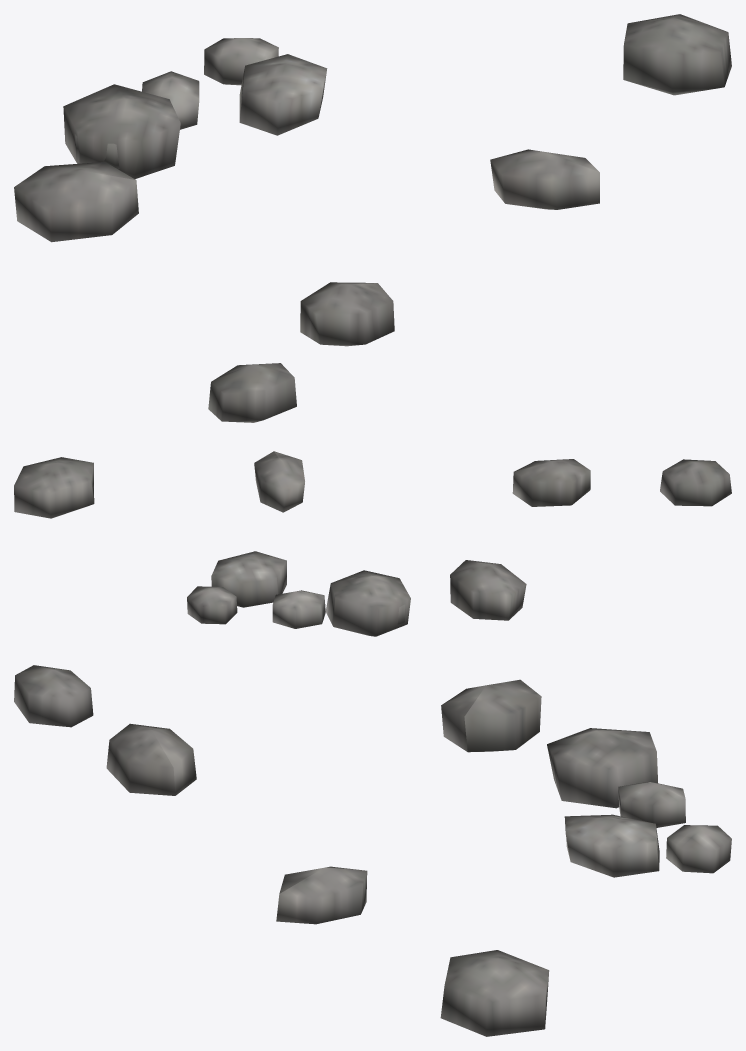
Rendered from pebbles_03.glb.
3 renders of one model, top to bottom at view 1: azimuth 30°, elevation 25°; view 2: azimuth 150°, elevation 25°; view 3: azimuth 270°, elevation 25°, orthographic. The views are drawn at different scales.
Parts seen in each view (by area): view 1: pebbles_03; view 2: pebbles_03; view 3: pebbles_03.
Boxes of the visible parts, x1,y1,x2,y2 form: pebbles_03: (14, 14, 731, 422); pebbles_03: (14, 451, 731, 636); pebbles_03: (14, 665, 731, 1036).
Size of the model in its own units: 0.5199 by 0.0521 by 0.4564.
Materials: 1 (1 with a texture image).
